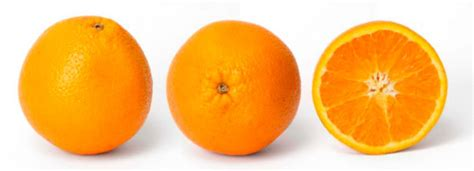orange: (16, 16, 156, 158), (165, 17, 304, 157)
